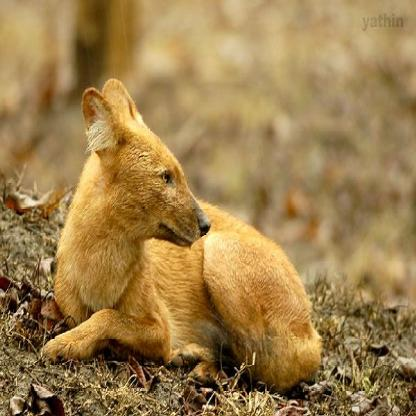dhole: (40, 73, 321, 389)
